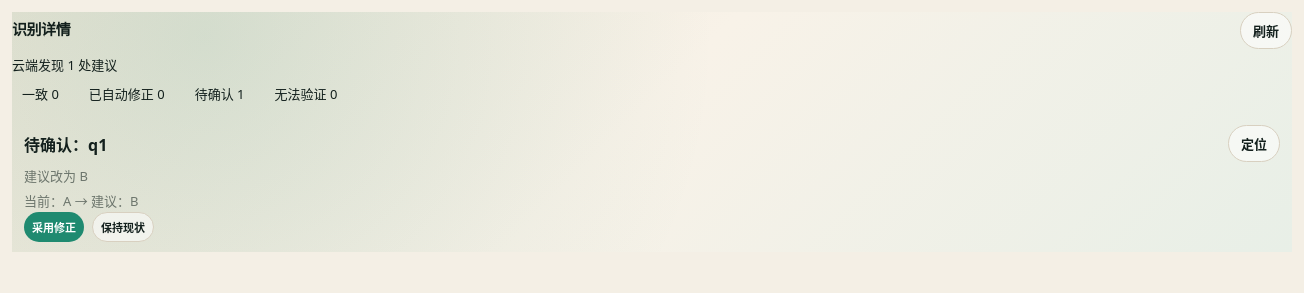
it: RecognitionPanel 提交前先 flush 编辑器（C1） › flush 失败时不提交决策，并给出提示
Click the button with test id "workspace-recognition-accept-d1" at (54, 227), box x1=24 y1=212 x2=84 y2=242
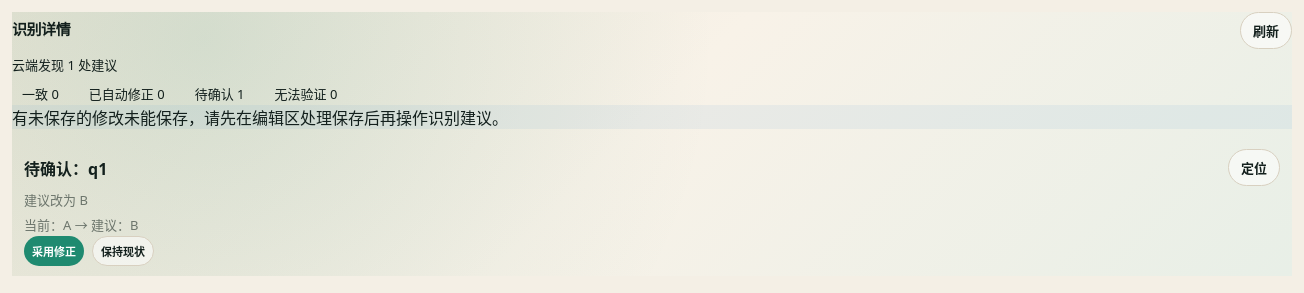
Check: the element with test id "workspace-recognition" shows "未能保存", box x1=12 y1=107 x2=508 y2=129
